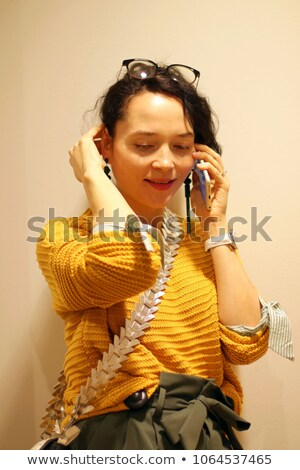phone: (186, 146, 222, 212)
talk: (116, 123, 241, 238)
